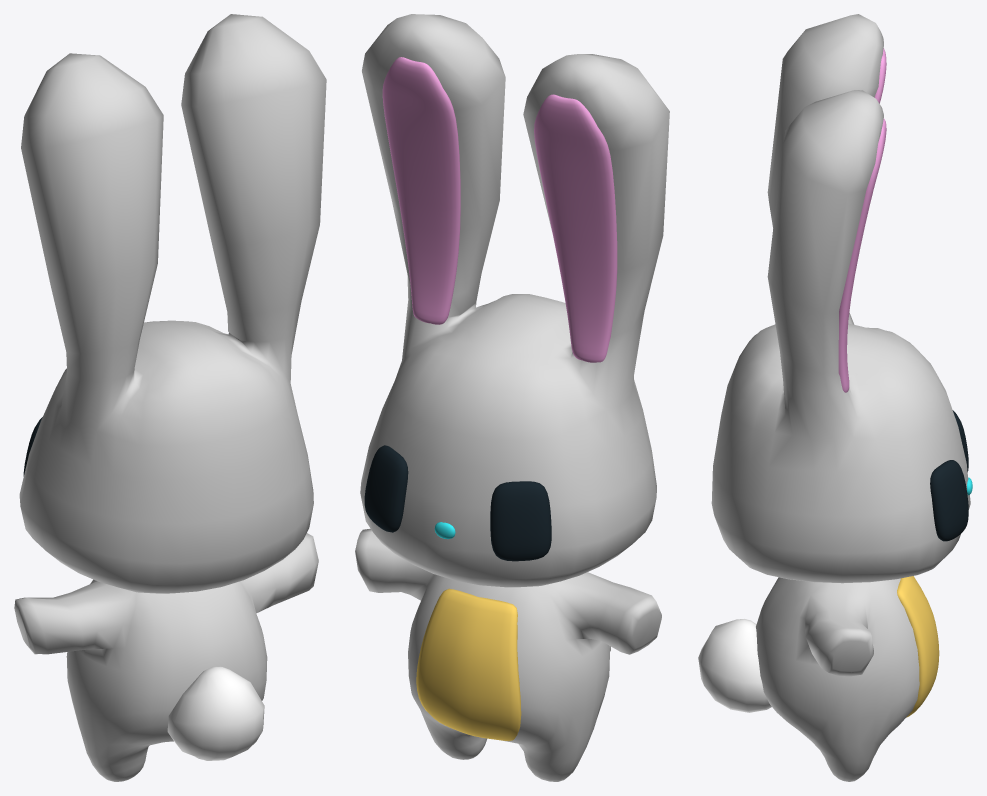
File: Remi_2.fbx
3 renders of one model, left to right at view 1: azimuth 30°, elevation 25°; view 2: azimuth 150°, elevation 25°; view 3: azimuth 270°, elevation 25°, orthographic. The views are drawn at different scales.
Visible parts, largest first — view 1: remihead2, Cube.023, Cube.024; view 2: remihead2, earpads, Cube.023, tummypad, eyes333; view 3: remihead2, Cube.023, Cube.024, eyes333, tummypad, earpads.
Boxes of the visible parts, x1,y1,x2,y2 form: remihead2: [19, 14, 326, 593]; Cube.023: [14, 533, 318, 781]; Cube.024: [167, 666, 264, 760]; remihead2: [360, 14, 669, 587]; earpads: [382, 57, 617, 362]; Cube.023: [355, 528, 661, 781]; tummypad: [416, 588, 521, 741]; eyes333: [364, 445, 551, 561]; remihead2: [711, 14, 970, 583]; Cube.023: [756, 577, 919, 781]; Cube.024: [698, 619, 771, 712]; eyes333: [930, 410, 968, 541]; tummypad: [897, 576, 939, 717]; earpads: [838, 48, 886, 392].
Size of the model in its own units: 73.23 by 173 by 61.61.
